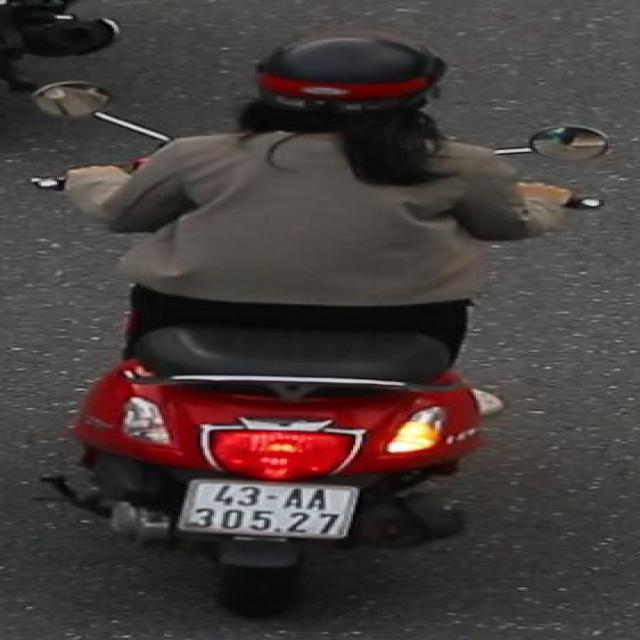LP: (172, 475, 366, 543)
helmet: (236, 31, 464, 146)
